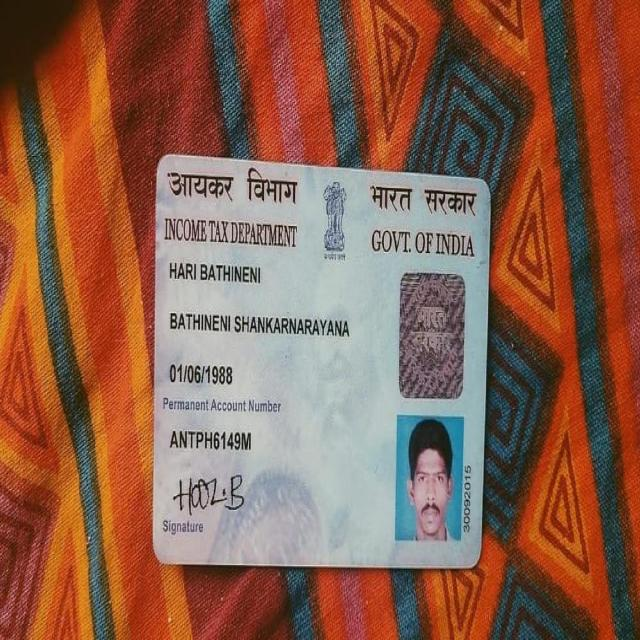pan_card: (154, 156, 489, 567)
